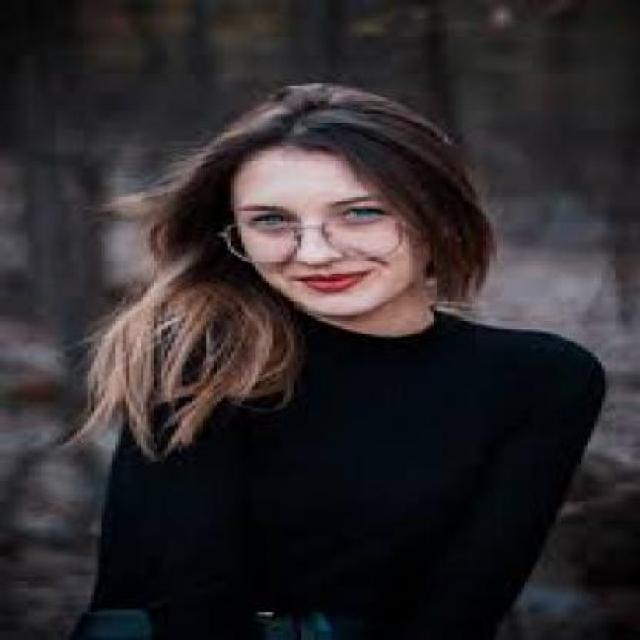glasses: (208, 199, 436, 273)
